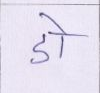e_matra: (40, 13, 69, 32)
